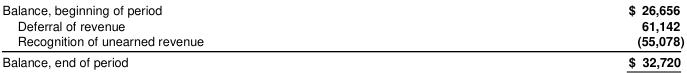table: (1, 0, 683, 69)
table column: (1, 0, 415, 69), (415, 0, 683, 69)
table row: (1, 50, 683, 69), (1, 32, 683, 50), (1, 0, 683, 17), (1, 17, 683, 32)
